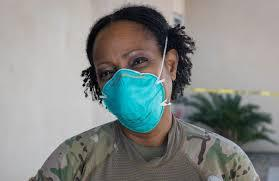Wearing Mask: (81, 32, 193, 148)
